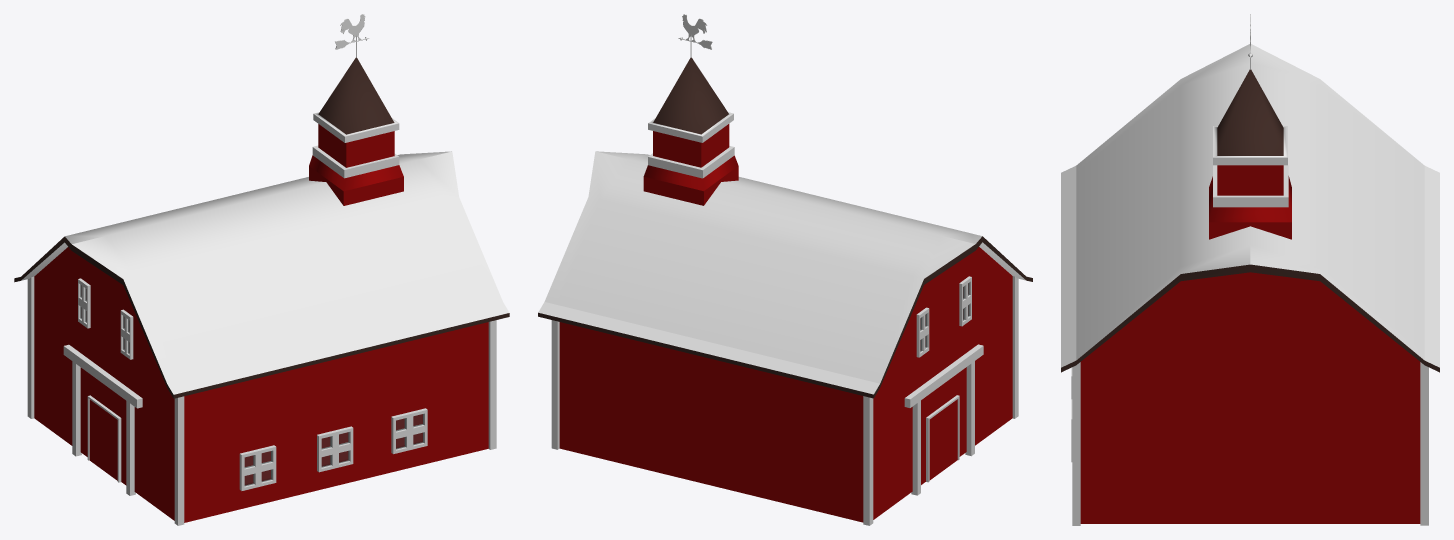
The model's file is BarnFinal.fbx.
3 renders of one model, left to right at view 1: azimuth 30°, elevation 25°; view 2: azimuth 150°, elevation 25°; view 3: azimuth 270°, elevation 25°, orthographic. The views are drawn at different scales.
Parts seen in each view (by area): view 1: polySurface5, polySurface6, polySurface18, polySurface20, polySurface8, polySurface22, polySurface19, polySurface15, polySurface3, polySurface1, polySurface7, polySurface17 (+1 smaller); view 2: polySurface5, polySurface6, polySurface19, polySurface24, polySurface8, polySurface18, polySurface7, polySurface1, polySurface16, polySurface17; view 3: polySurface5, polySurface6, polySurface20, polySurface24.
Boxes of the visible parts, bbox=[...] form: polySurface5: bbox=[14, 151, 509, 522]; polySurface6: bbox=[309, 57, 403, 205]; polySurface18: bbox=[174, 396, 184, 525]; polySurface20: bbox=[488, 320, 496, 449]; polySurface8: bbox=[63, 344, 142, 408]; polySurface22: bbox=[239, 445, 276, 490]; polySurface19: bbox=[27, 276, 34, 418]; polySurface15: bbox=[317, 426, 353, 472]; polySurface3: bbox=[391, 408, 427, 454]; polySurface1: bbox=[126, 401, 135, 495]; polySurface7: bbox=[72, 361, 81, 456]; polySurface17: bbox=[120, 309, 133, 359]; polySurface5: bbox=[538, 151, 1032, 522]; polySurface6: bbox=[643, 57, 738, 205]; polySurface19: bbox=[863, 396, 873, 525]; polySurface24: bbox=[551, 320, 559, 449]; polySurface8: bbox=[904, 344, 983, 407]; polySurface18: bbox=[1012, 276, 1018, 418]; polySurface7: bbox=[911, 400, 920, 495]; polySurface1: bbox=[965, 361, 974, 456]; polySurface16: bbox=[916, 307, 929, 357]; polySurface17: bbox=[959, 276, 971, 326]; polySurface5: bbox=[1061, 44, 1439, 523]; polySurface6: bbox=[1209, 69, 1291, 239]; polySurface20: bbox=[1072, 362, 1080, 525]; polySurface24: bbox=[1420, 362, 1428, 525].
Bounding box in the file's own units: 19.42 × 19.36 × 14.07.
